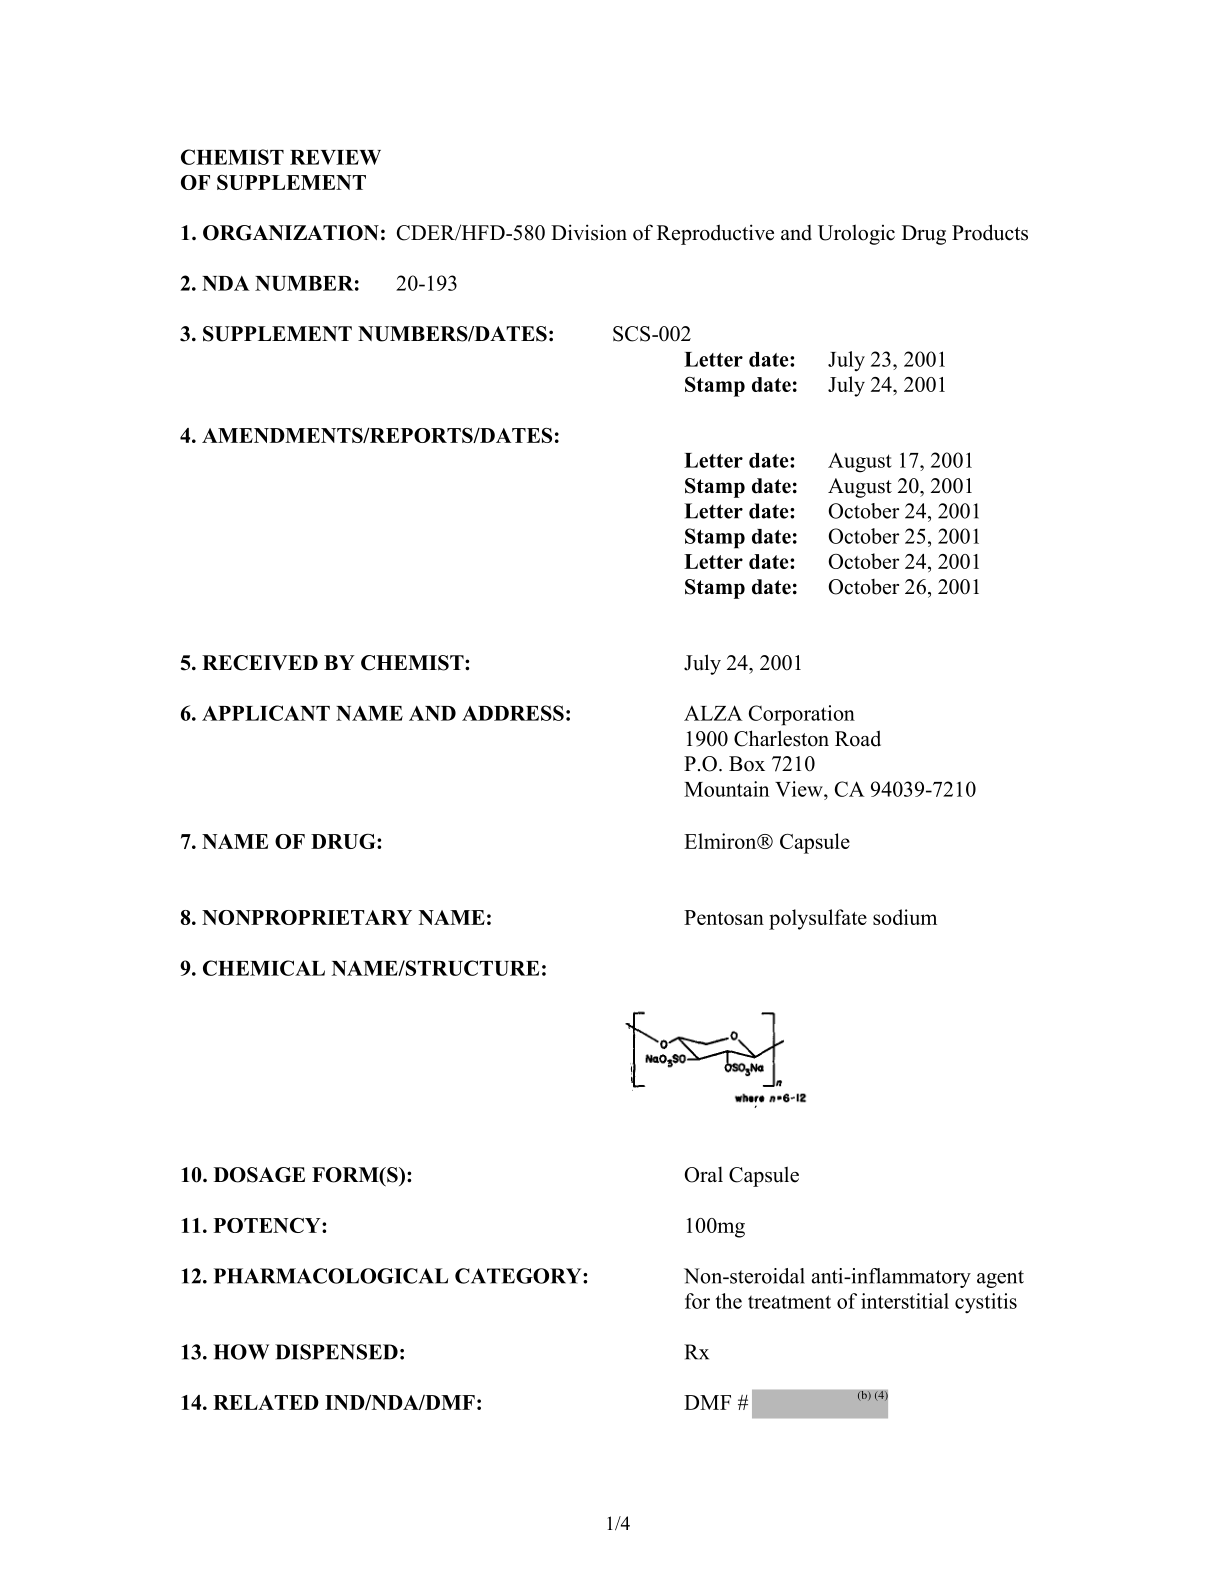nolines: (175, 219, 1032, 1416)
